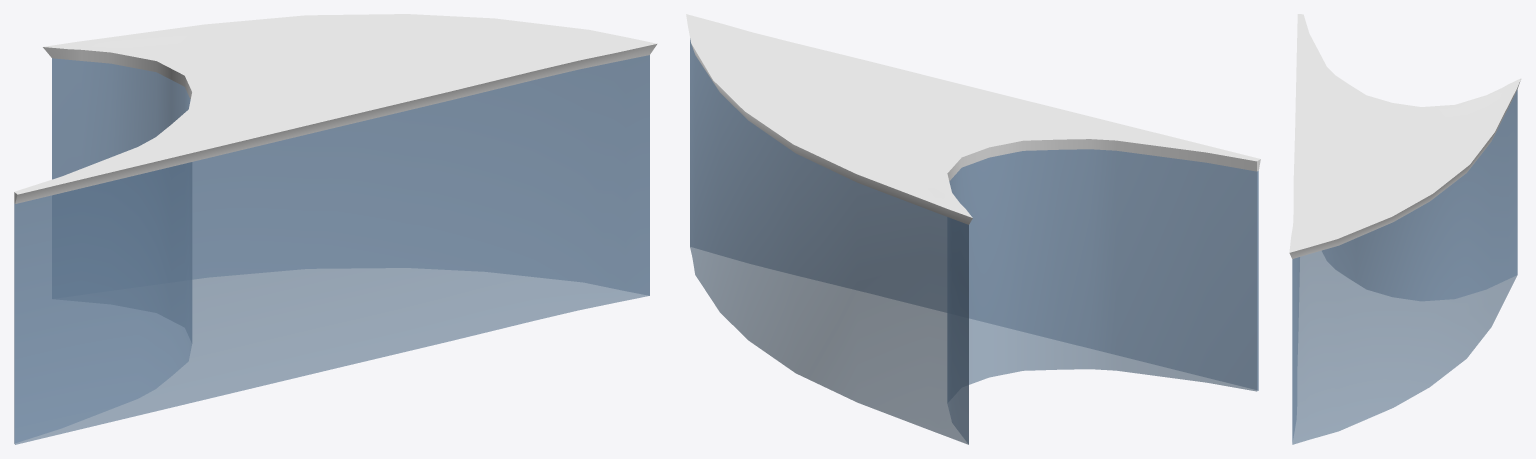
Rendered from aquarium_couloir.fbx.
3 views of the same model, side by side, from view 1: azimuth 30°, elevation 25°; view 2: azimuth 150°, elevation 25°; view 3: azimuth 270°, elevation 25° (orthographic). The views are drawn at different scales.
Visible parts, largest first — view 1: aquarium_couloir; view 2: aquarium_couloir; view 3: aquarium_couloir.
Boxes of the visible parts, left/top/right/bottom form: aquarium_couloir: left=14, top=14, right=657, bottom=444; aquarium_couloir: left=686, top=14, right=1260, bottom=444; aquarium_couloir: left=1289, top=14, right=1521, bottom=444.
Size of the model in its own units: 10.55 by 4.33 by 4.01.
